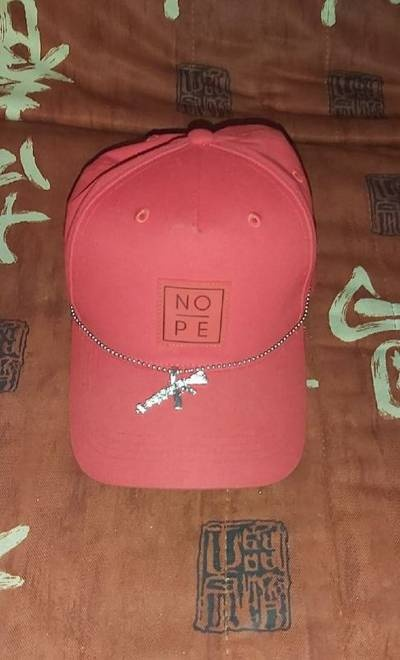Hat: (44, 120, 346, 509)
